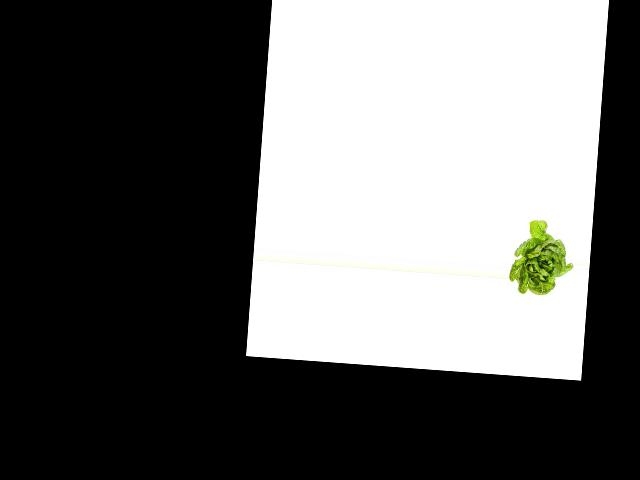lettuce: (510, 215, 576, 298)
